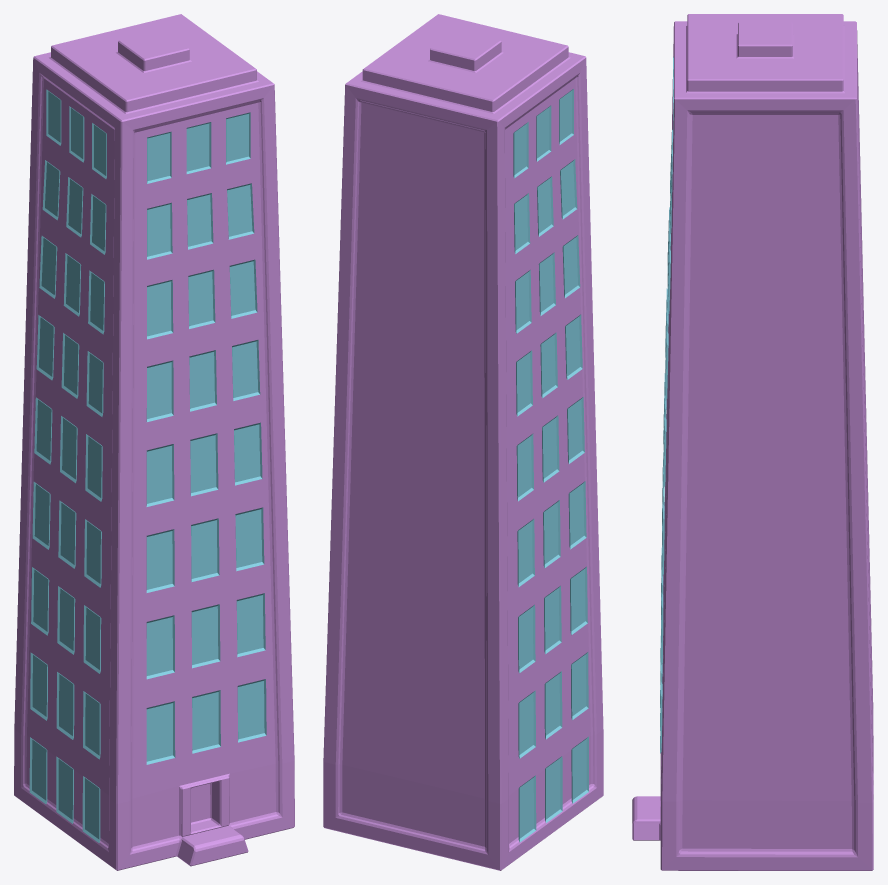
The model's file is Building.fbx.
3 views of the same model, side by side, from view 1: azimuth 30°, elevation 25°; view 2: azimuth 150°, elevation 25°; view 3: azimuth 270°, elevation 25° (orthographic). The views are drawn at different scales.
Visible parts, largest first — view 1: Cube; view 2: Cube; view 3: Cube.
Part boxes in pixels (x1,y1,x2,y2): Cube: (14, 14, 294, 870); Cube: (323, 14, 603, 870); Cube: (632, 14, 873, 870).
Size of the model in its own units: 1039 by 4240 by 1171.
